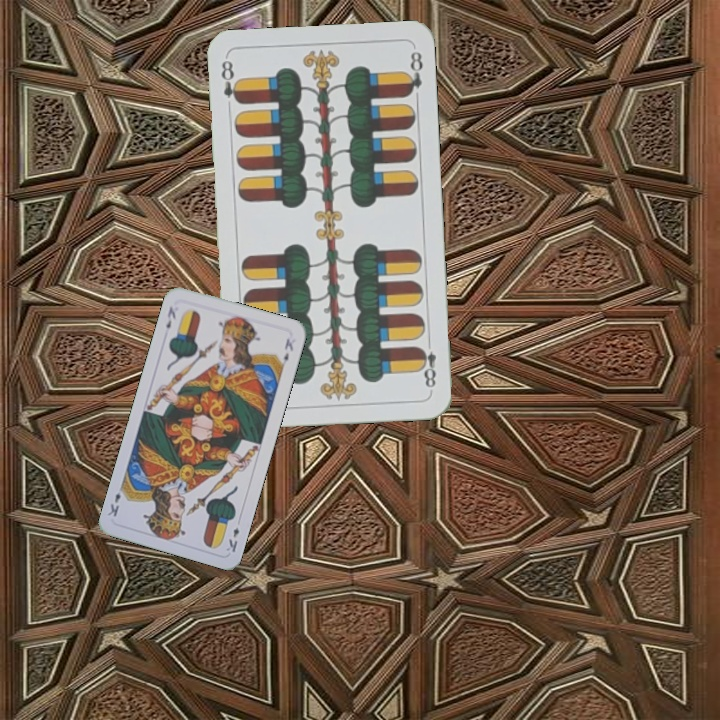E8: (415, 334, 439, 391), (217, 56, 243, 107)
EK: (222, 523, 242, 555), (162, 302, 178, 331)
